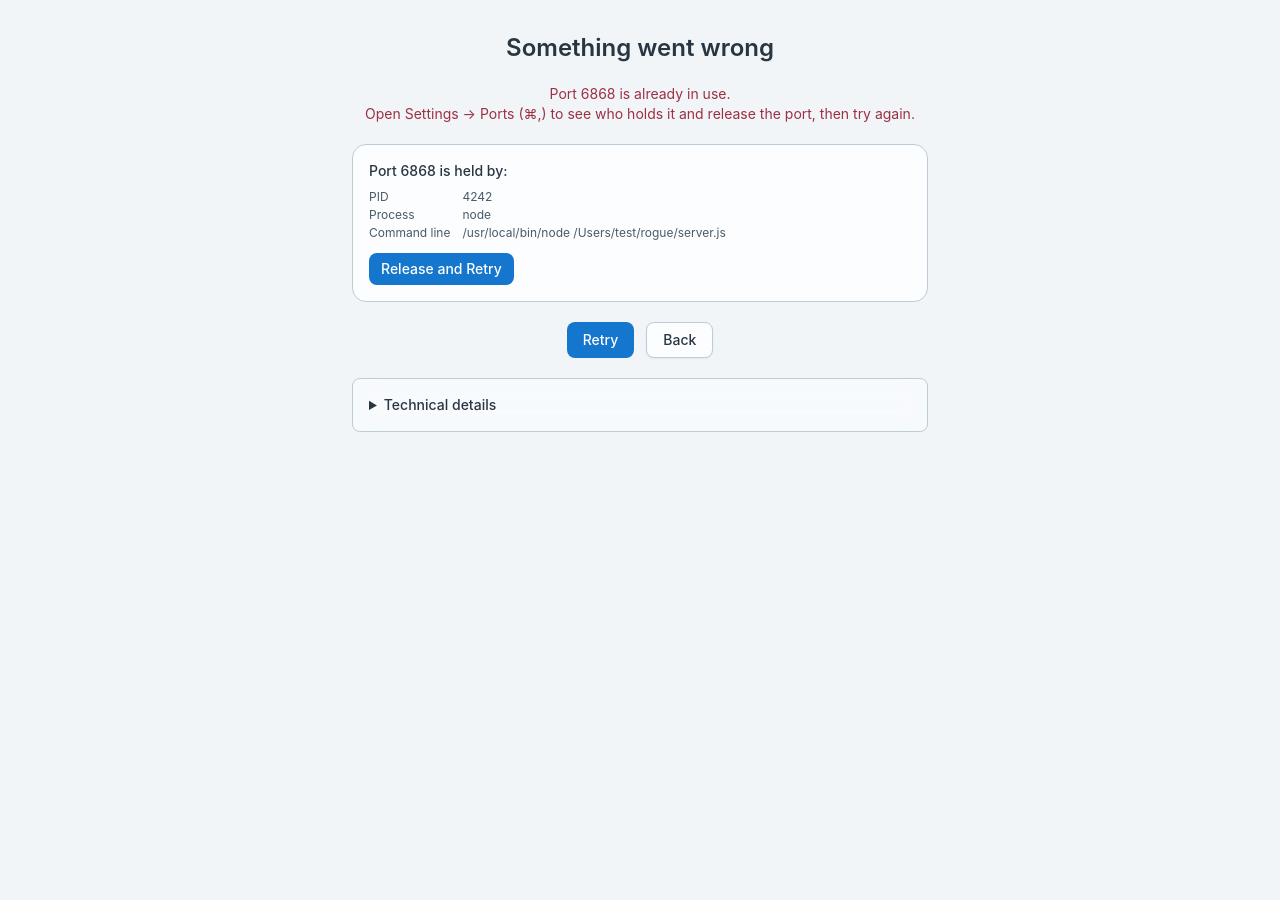
Test case: Error Page port-conflict linkage (v1.2.0 issue #14) › a changed occupant cancels Release and Retry and shows the new identity
Expected: the text "/usr/local/bin/node /Users/test/rogue/server.js" is shown, [462, 225, 726, 240]
Click the button "Release and Retry" at (441, 269), box [369, 253, 514, 285]
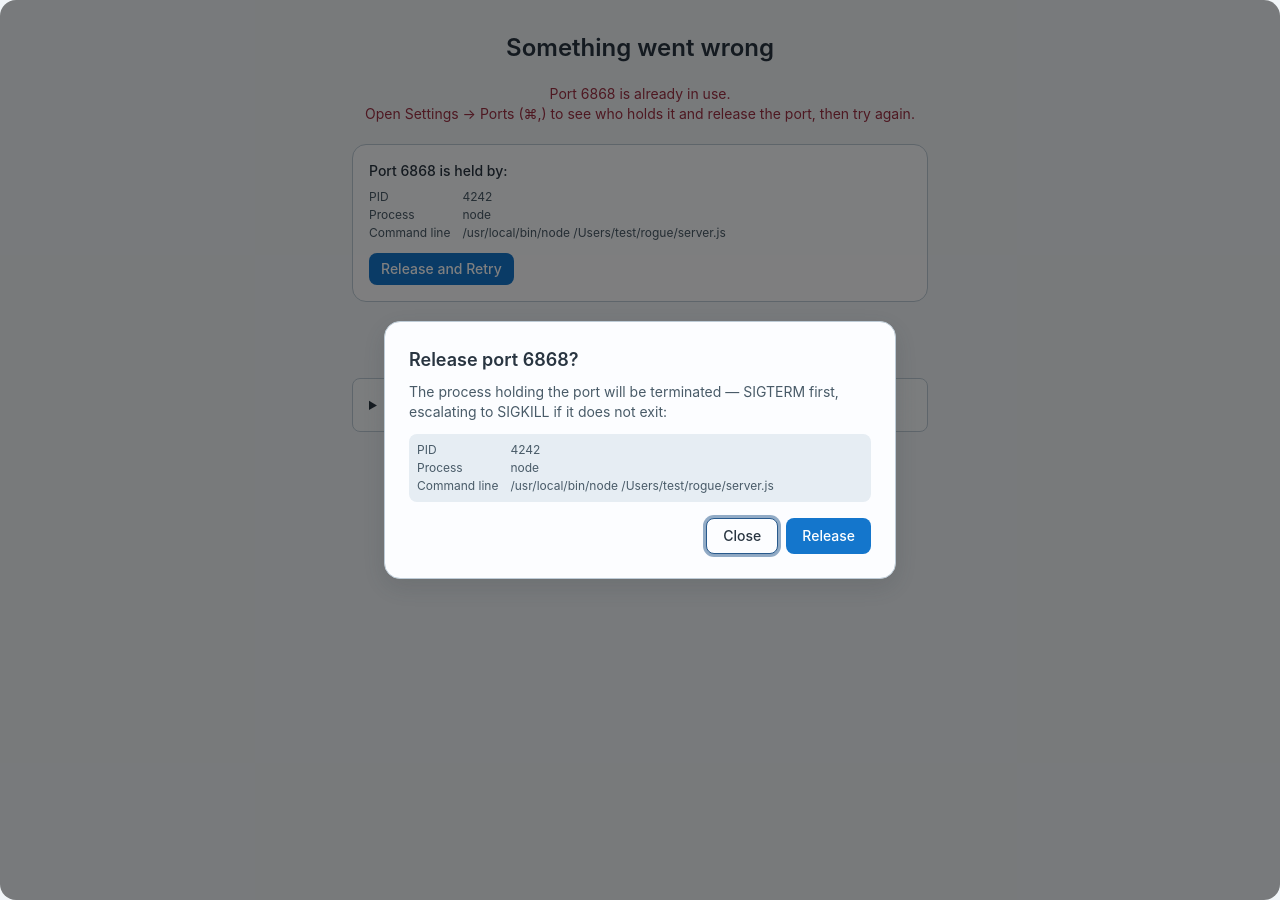
Click the button "Release" at (829, 536), box [786, 518, 871, 554]
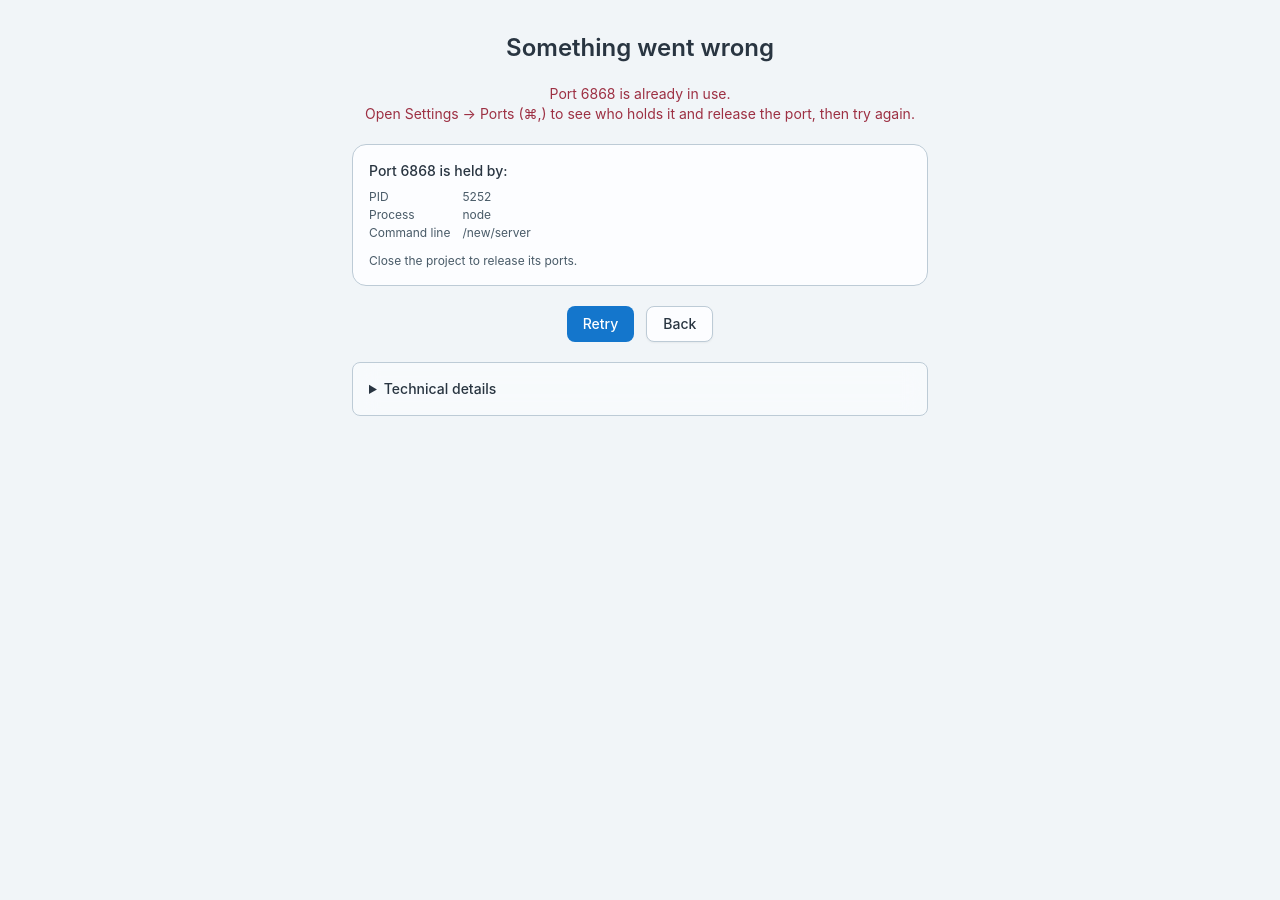
Expected: the text "/new/server" is shown, [462, 225, 531, 240]
Expected: the button "Release and Retry" is gone
